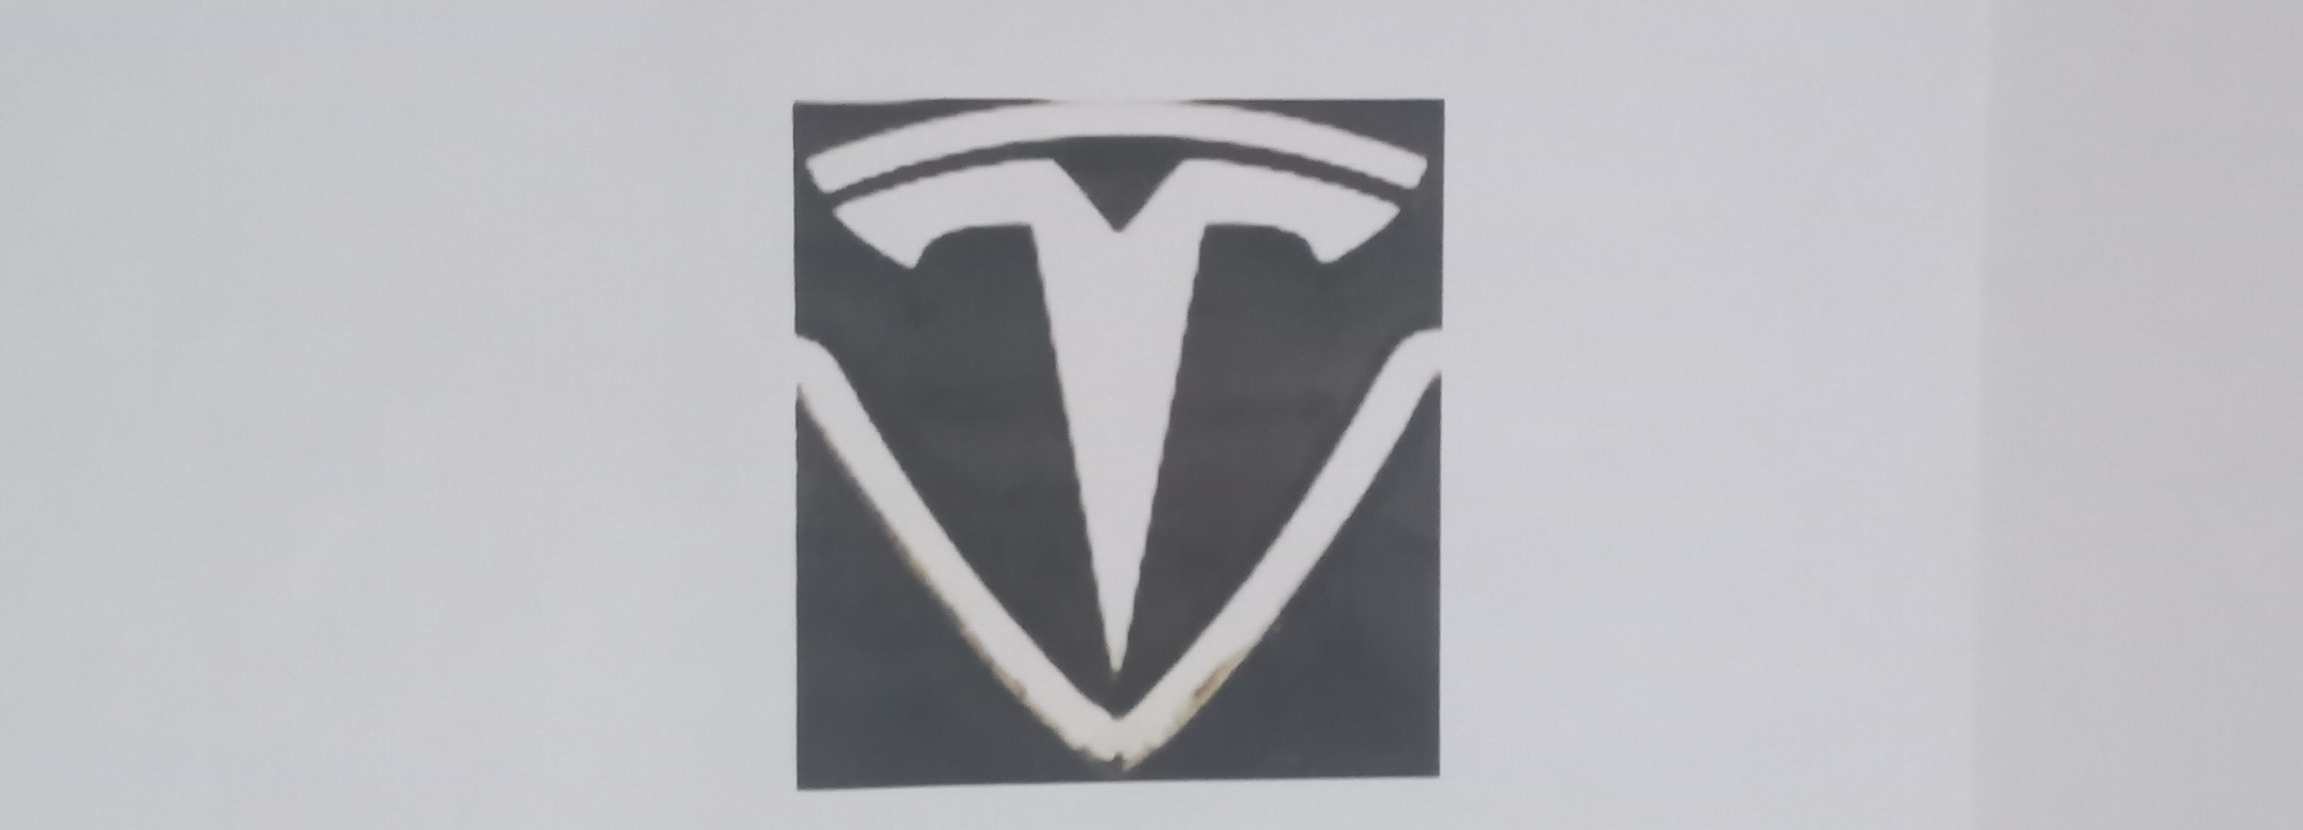Tesla: (783, 95, 1453, 779)
